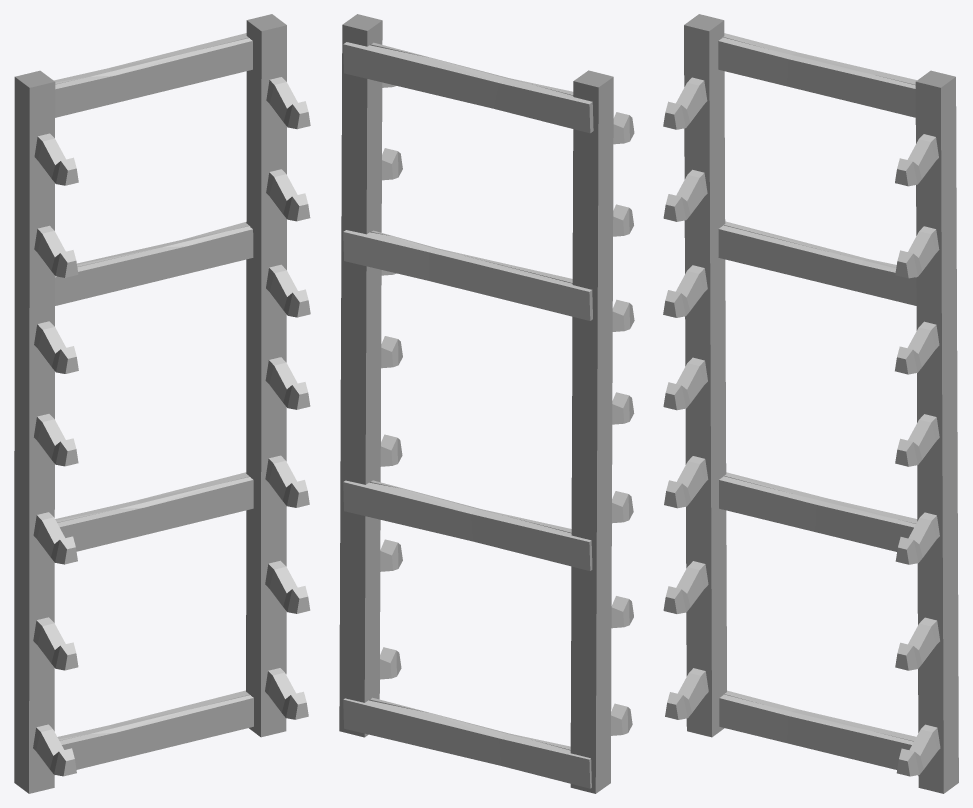
Rendered from PT_Wall_Mounted_Weapons_rack_01.fbx.
3 views of the same model, side by side, from view 1: azimuth 30°, elevation 25°; view 2: azimuth 150°, elevation 25°; view 3: azimuth 330°, elevation 25° (orthographic).
Visible parts, largest first — view 1: PT_Wall_Mounted_Weapons_rack_01; view 2: PT_Wall_Mounted_Weapons_rack_01; view 3: PT_Wall_Mounted_Weapons_rack_01.
Boxes of the visible parts, x1,y1,x2,y2 form: PT_Wall_Mounted_Weapons_rack_01: (14, 14, 310, 793); PT_Wall_Mounted_Weapons_rack_01: (339, 14, 634, 793); PT_Wall_Mounted_Weapons_rack_01: (663, 14, 958, 793).
Size of the model in its own units: 44.49 by 116 by 13.96.
1 material, 1 textured.
